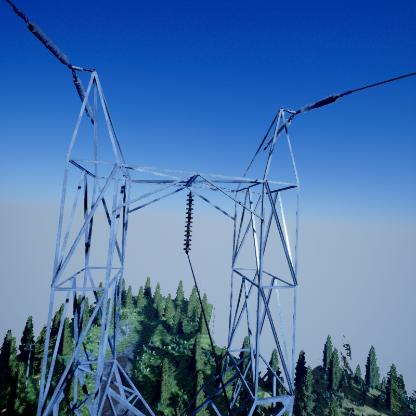insulator: (181, 192, 194, 253)
